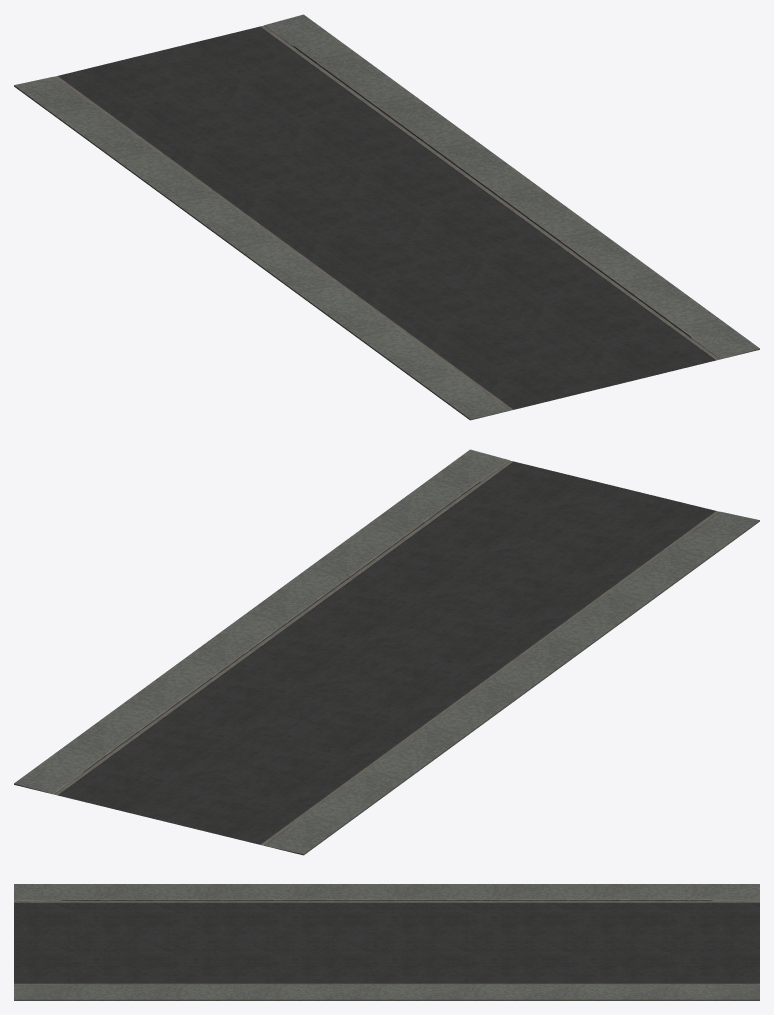
File: jctlowRoad22mA.fbx
3 renders of one model, top to bottom at view 1: azimuth 30°, elevation 25°; view 2: azimuth 150°, elevation 25°; view 3: azimuth 270°, elevation 25°, orthographic. The views are drawn at different scales.
Visible parts, largest first — view 1: jctlowRoad22mA; view 2: jctlowRoad22mA; view 3: jctlowRoad22mA.
Boxes of the visible parts, box(x1,y1,x2,y2) form: jctlowRoad22mA: box(14, 14, 759, 420); jctlowRoad22mA: box(14, 449, 759, 855); jctlowRoad22mA: box(14, 884, 759, 1000).
Size of the model in its own units: 2200 by 10 by 6000.
Materials: 3 (3 with a texture image).
